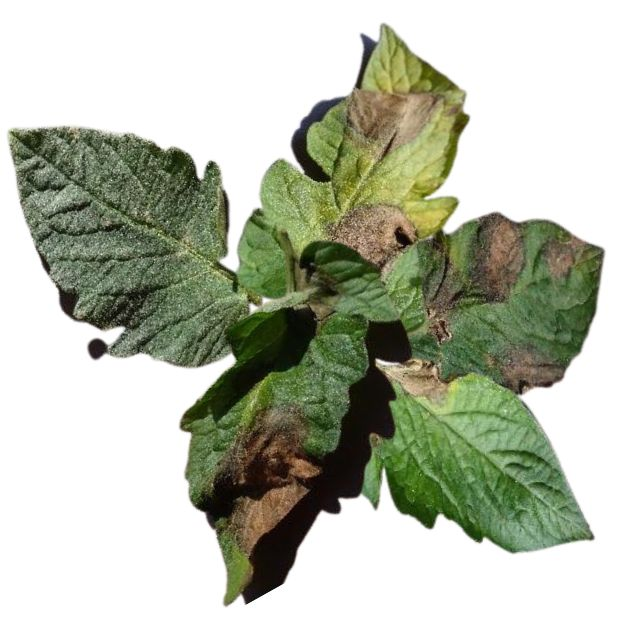Late_blight: (202, 401, 328, 560), (337, 85, 438, 160), (322, 202, 417, 278), (464, 210, 528, 307), (412, 234, 465, 348), (484, 340, 566, 394), (388, 360, 455, 405), (302, 266, 342, 331), (537, 232, 586, 283)
